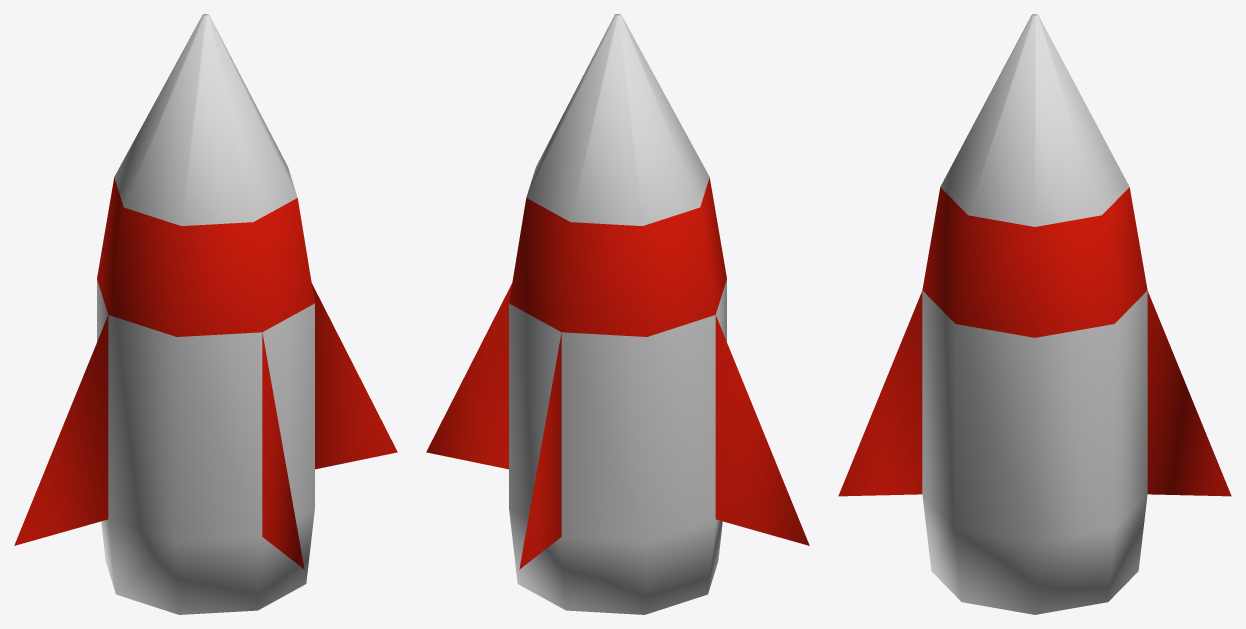
File: rocket.glb
3 views of the same model, side by side, from view 1: azimuth 30°, elevation 25°; view 2: azimuth 150°, elevation 25°; view 3: azimuth 270°, elevation 25° (orthographic).
Parts seen in each view (by area): view 1: Cylinder; view 2: Cylinder; view 3: Cylinder.
Part boxes in pixels (x1,y1,x2,y2): Cylinder: (14,14,397,614); Cylinder: (426,14,809,614); Cylinder: (838,14,1231,614).
Bounding box in the file's own units: 0.5085 × 0.7053 × 0.4527.
